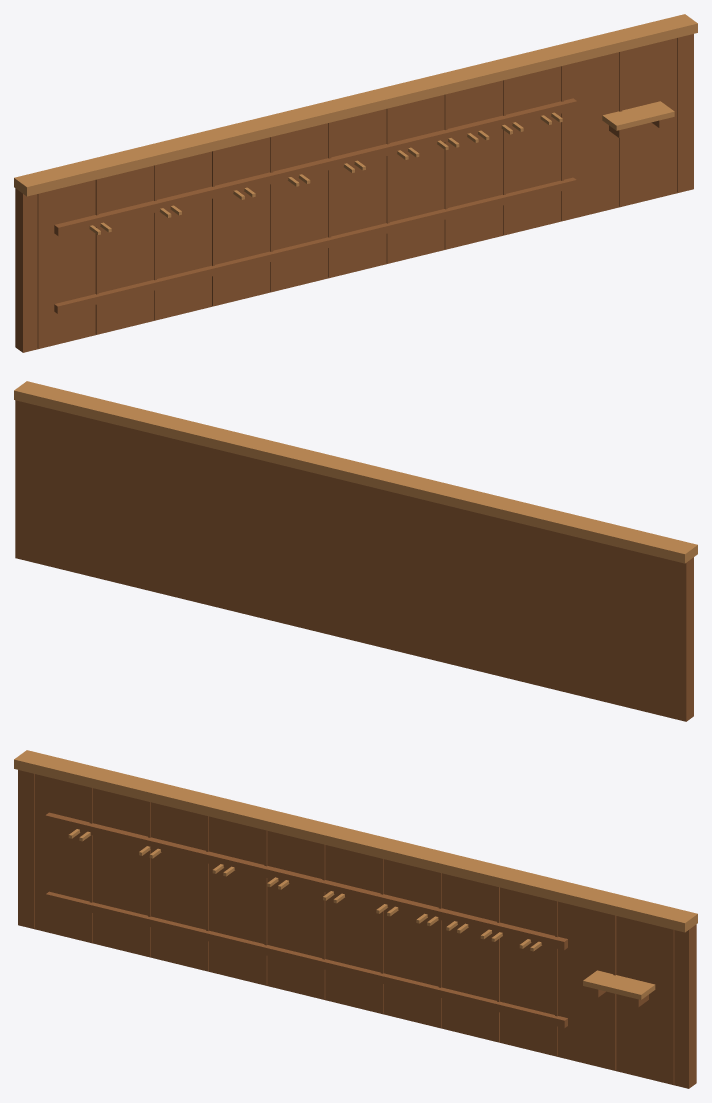
The model's file is rack.glb.
3 renders of one model, top to bottom at view 1: azimuth 30°, elevation 25°; view 2: azimuth 150°, elevation 25°; view 3: azimuth 330°, elevation 25°, orthographic.
Parts seen in each view (by area): view 1: Wall, UpperRail, LowerRail, Shelf; view 2: Wall; view 3: Wall, UpperRail, LowerRail, Shelf.
Part boxes in pixels (left/top/right/bottom): Wall: left=14, top=14, right=697, bottom=352; UpperRail: left=54, top=98, right=577, bottom=236; LowerRail: left=54, top=177, right=576, bottom=313; Shelf: left=602, top=101, right=674, bottom=137; Wall: left=14, top=381, right=697, bottom=721; Wall: left=14, top=750, right=697, bottom=1088; UpperRail: left=45, top=812, right=567, bottom=951; LowerRail: left=46, top=891, right=567, bottom=1027; Shelf: left=583, top=970, right=655, bottom=1007.
Bounding box in the file's own units: 300 × 72 × 18.
